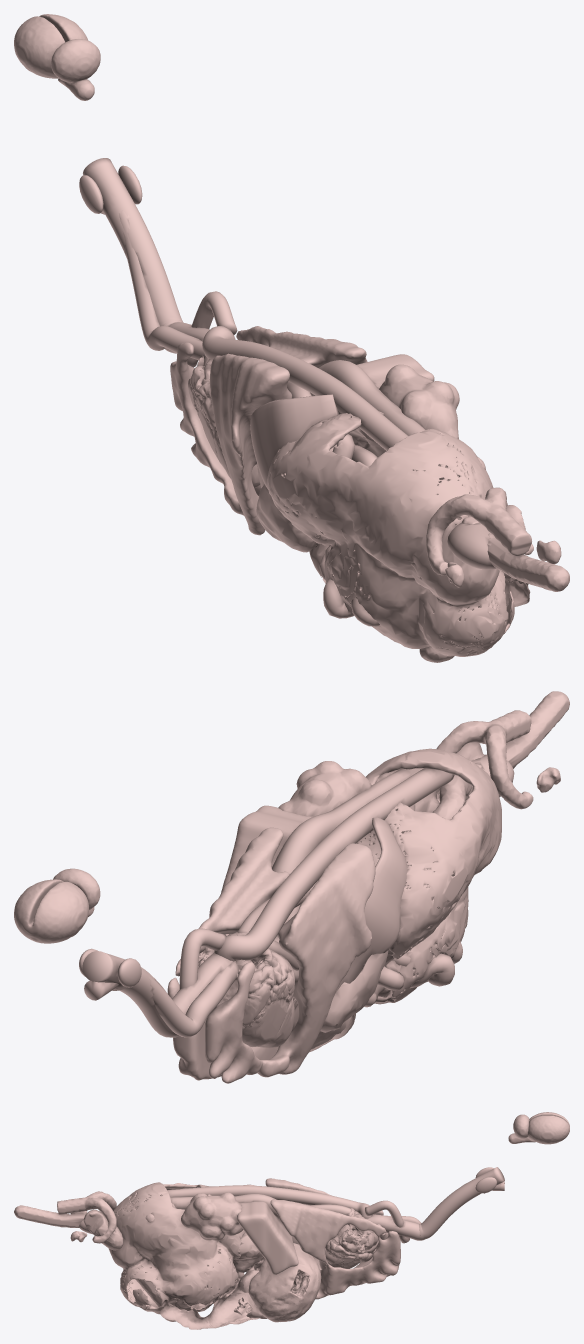
The model's file is visceral.glb.
3 views of the same model, one above another, from view 1: azimuth 30°, elevation 25°; view 2: azimuth 150°, elevation 25°; view 3: azimuth 270°, elevation 25° (orthographic). The views are drawn at different scales.
Visible parts, largest first — view 1: cow_visceral_rumen, cow_visceral_lungs_L, cow_visceral_great-vessels, cow_visceral_trachea, cow_visceral_uterus, cow_visceral_spleen, cow_visceral_kidneys_R, cow_visceral_large-intestine, cow_visceral_esophagus, cow_visceral_brain_cerebrum, cow_visceral_lungs_R, cow_visceral_small-intestine (+6 smaller); view 2: cow_visceral_rumen, cow_visceral_lungs_L, cow_visceral_great-vessels, cow_visceral_lungs_R, cow_visceral_heart, cow_visceral_spleen, cow_visceral_brain_cerebrum, cow_visceral_trachea, cow_visceral_esophagus, cow_visceral_uterus, cow_visceral_large-intestine, cow_visceral_kidneys_R (+5 smaller); view 3: cow_visceral_rumen, cow_visceral_lungs_R, cow_visceral_omasum, cow_visceral_great-vessels, cow_visceral_liver, cow_visceral_kidneys_R, cow_visceral_trachea, cow_visceral_abomasum, cow_visceral_large-intestine, cow_visceral_heart, cow_visceral_reticulum, cow_visceral_uterus (+5 smaller).
Part boxes in pixels (x1,y1,x2,y2): cow_visceral_rumen: (267, 411, 514, 656); cow_visceral_lungs_L: (170, 342, 292, 535); cow_visceral_great-vessels: (187, 291, 446, 482); cow_visceral_trachea: (83, 158, 209, 353); cow_visceral_uterus: (426, 487, 533, 575); cow_visceral_spleen: (250, 394, 339, 489); cow_visceral_kidneys_R: (379, 364, 459, 438); cow_visceral_large-intestine: (419, 495, 569, 662); cow_visceral_esophagus: (119, 210, 311, 398); cow_visceral_brain_cerebrum: (14, 14, 87, 78); cow_visceral_lungs_R: (236, 326, 367, 495); cow_visceral_small-intestine: (319, 434, 379, 626); cow_visceral_rumen: (356, 748, 501, 1002); cow_visceral_lungs_L: (205, 843, 375, 1083); cow_visceral_great-vessels: (179, 768, 454, 989); cow_visceral_lungs_R: (167, 827, 289, 1080); cow_visceral_heart: (198, 932, 294, 1048); cow_visceral_spleen: (291, 817, 409, 1031); cow_visceral_brain_cerebrum: (14, 879, 88, 943); cow_visceral_trachea: (82, 940, 298, 1037); cow_visceral_esophagus: (84, 881, 317, 1037); cow_visceral_uterus: (436, 710, 533, 809); cow_visceral_large-intestine: (405, 691, 569, 865); cow_visceral_kidneys_R: (278, 761, 371, 816); cow_visceral_rumen: (108, 1182, 245, 1314); cow_visceral_lungs_R: (270, 1199, 400, 1299); cow_visceral_omasum: (240, 1260, 319, 1322); cow_visceral_great-vessels: (161, 1185, 409, 1264); cow_visceral_liver: (237, 1201, 298, 1274); cow_visceral_kidneys_R: (181, 1192, 243, 1240); cow_visceral_trachea: (355, 1167, 504, 1240); cow_visceral_abomasum: (160, 1288, 258, 1329); cow_visceral_large-intestine: (14, 1205, 204, 1321); cow_visceral_heart: (319, 1208, 378, 1269); cow_visceral_reticulum: (233, 1233, 321, 1292); cow_visceral_uterus: (57, 1191, 116, 1243).
Bounding box in the file's own units: 0.3097 × 0.5654 × 1.43.
